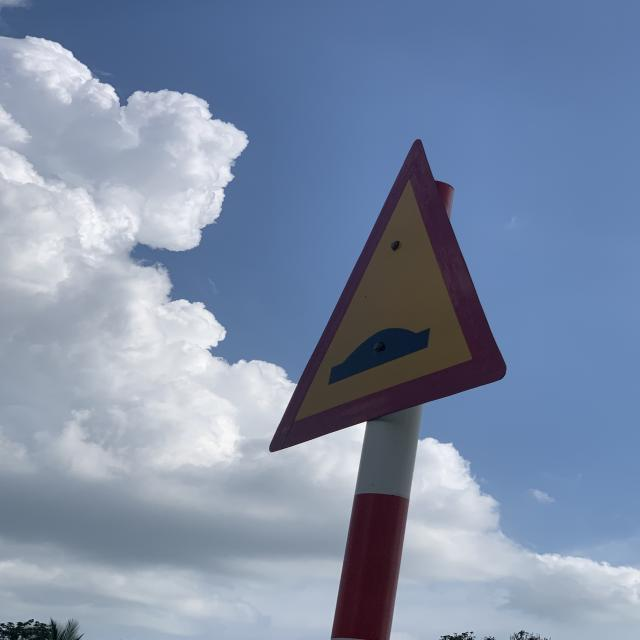Duong_Cong_Ben_Phai: (263, 138, 511, 453)
